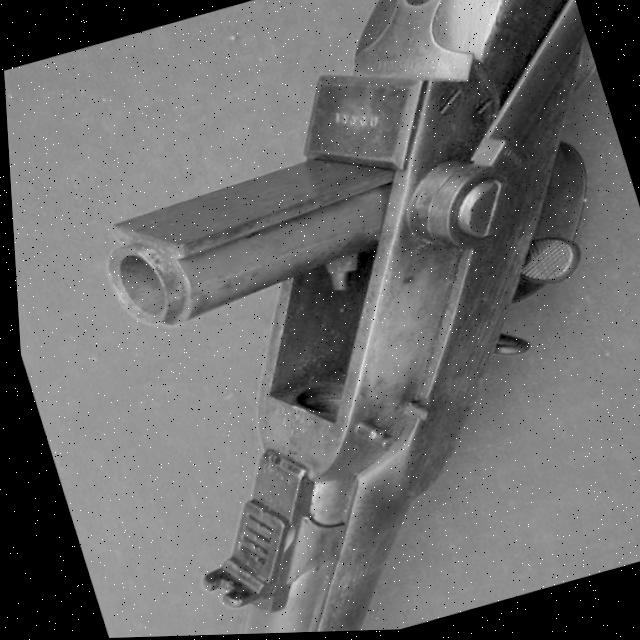firearm: (30, 0, 640, 639)
